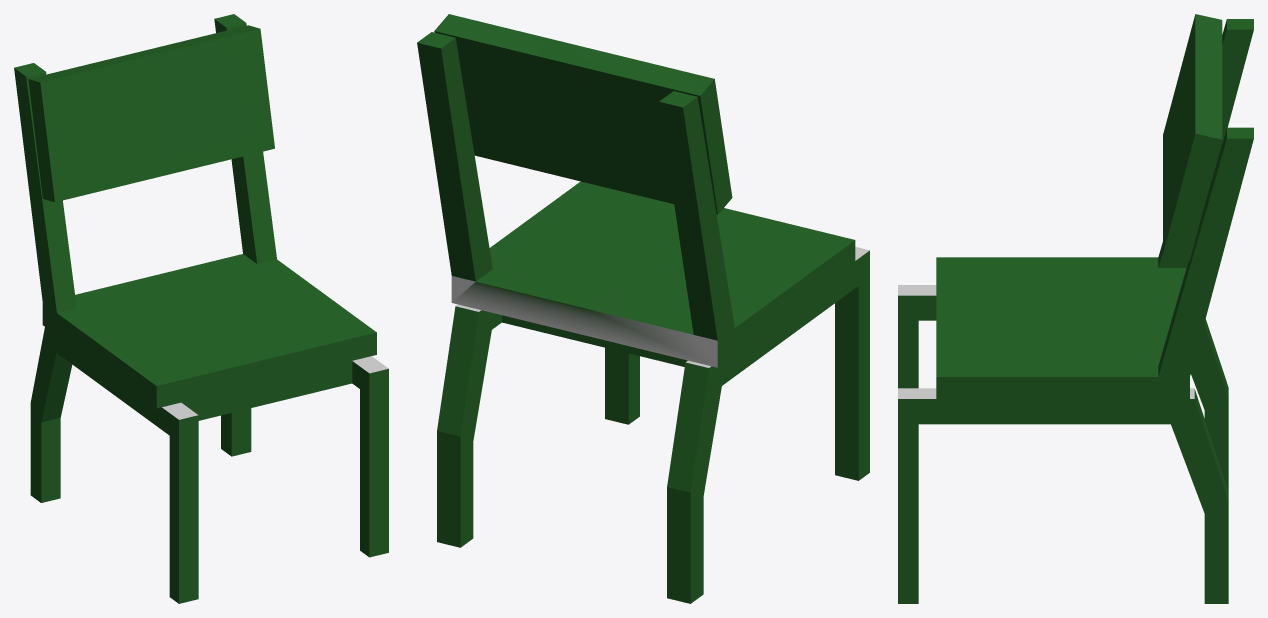
Rendered from PAEA01_TechRoom_Furniture_chair_01a.glb.
3 views of the same model, side by side, from view 1: azimuth 30°, elevation 25°; view 2: azimuth 150°, elevation 25°; view 3: azimuth 270°, elevation 25° (orthographic). The views are drawn at different scales.
Visible parts, largest first — view 1: PAEA01_TechRoom_Furniture_chair_01a; view 2: PAEA01_TechRoom_Furniture_chair_01a; view 3: PAEA01_TechRoom_Furniture_chair_01a.
Boxes of the visible parts, left/top/right/bottom form: PAEA01_TechRoom_Furniture_chair_01a: left=14, top=14, right=388, bottom=603; PAEA01_TechRoom_Furniture_chair_01a: left=417, top=14, right=869, bottom=603; PAEA01_TechRoom_Furniture_chair_01a: left=898, top=14, right=1253, bottom=603.
Bounding box in the file's own units: 1.05 × 1.93 × 1.32.
